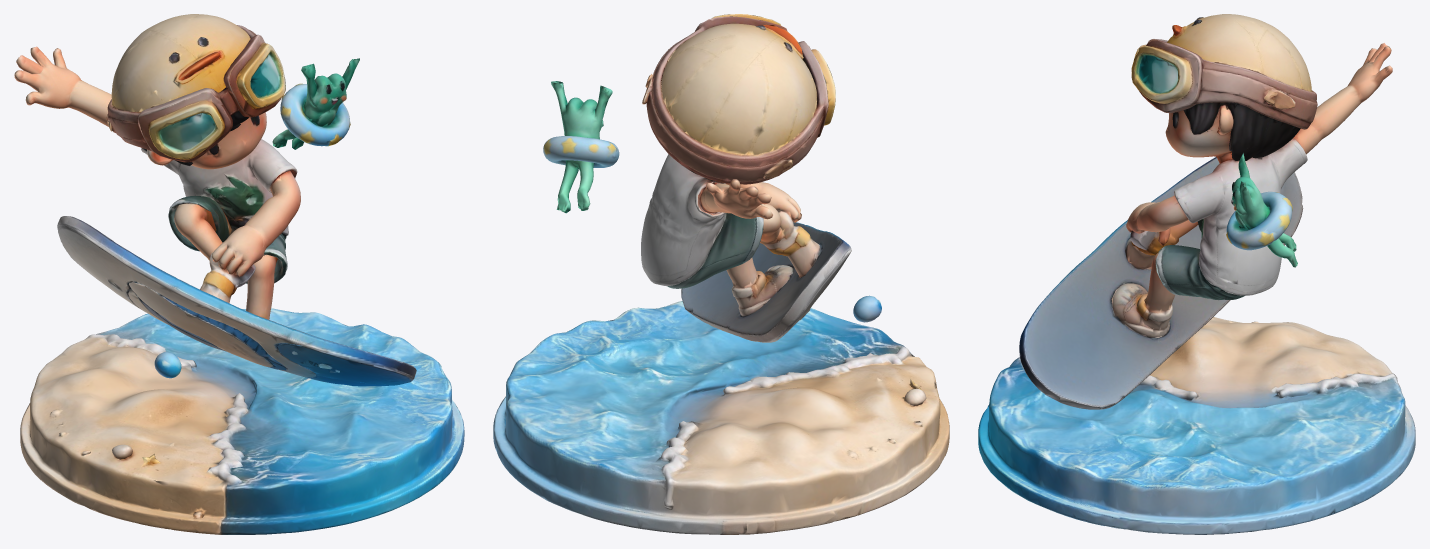
File: cartoon_surfer_optimized.glb
3 views of the same model, side by side, from view 1: azimuth 30°, elevation 25°; view 2: azimuth 150°, elevation 25°; view 3: azimuth 270°, elevation 25° (orthographic). The views are drawn at different scales.
Parts seen in each view (by area): view 1: tripo_node_59326a8c-1f52-4418-9fc8-bc3addd45671; view 2: tripo_node_59326a8c-1f52-4418-9fc8-bc3addd45671; view 3: tripo_node_59326a8c-1f52-4418-9fc8-bc3addd45671.
Boxes of the visible parts, x1=… form: tripo_node_59326a8c-1f52-4418-9fc8-bc3addd45671: x1=14, y1=14, x2=464, y2=534; tripo_node_59326a8c-1f52-4418-9fc8-bc3addd45671: x1=493, y1=14, x2=949, y2=534; tripo_node_59326a8c-1f52-4418-9fc8-bc3addd45671: x1=978, y1=14, x2=1415, y2=534.
Size of the model in its own units: 0.9442 by 0.9796 by 0.9471.
1 material, 1 textured.
